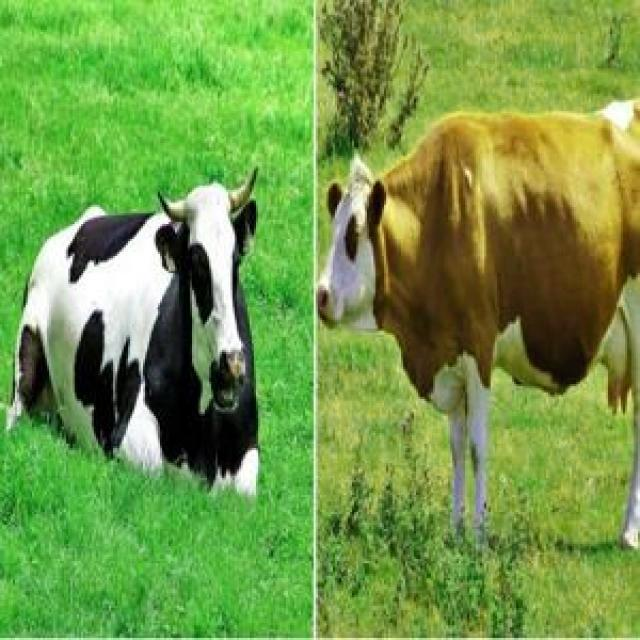cow: (318, 112, 639, 547), (8, 173, 259, 494)
